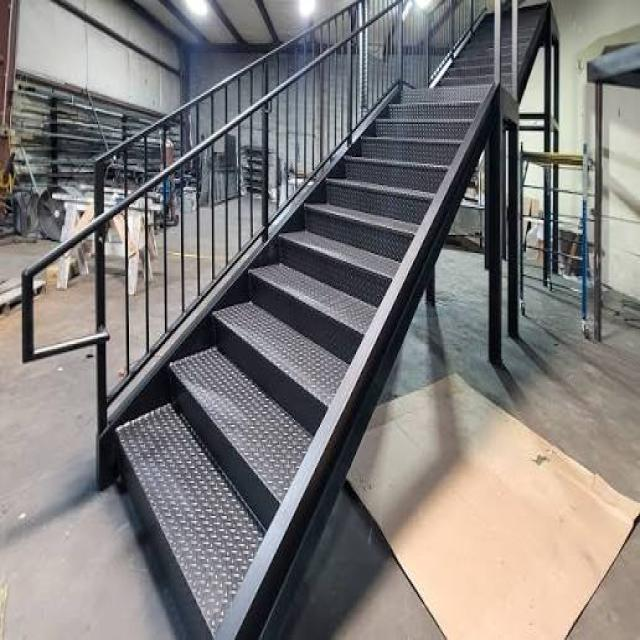Stairs: (19, 0, 569, 640)
